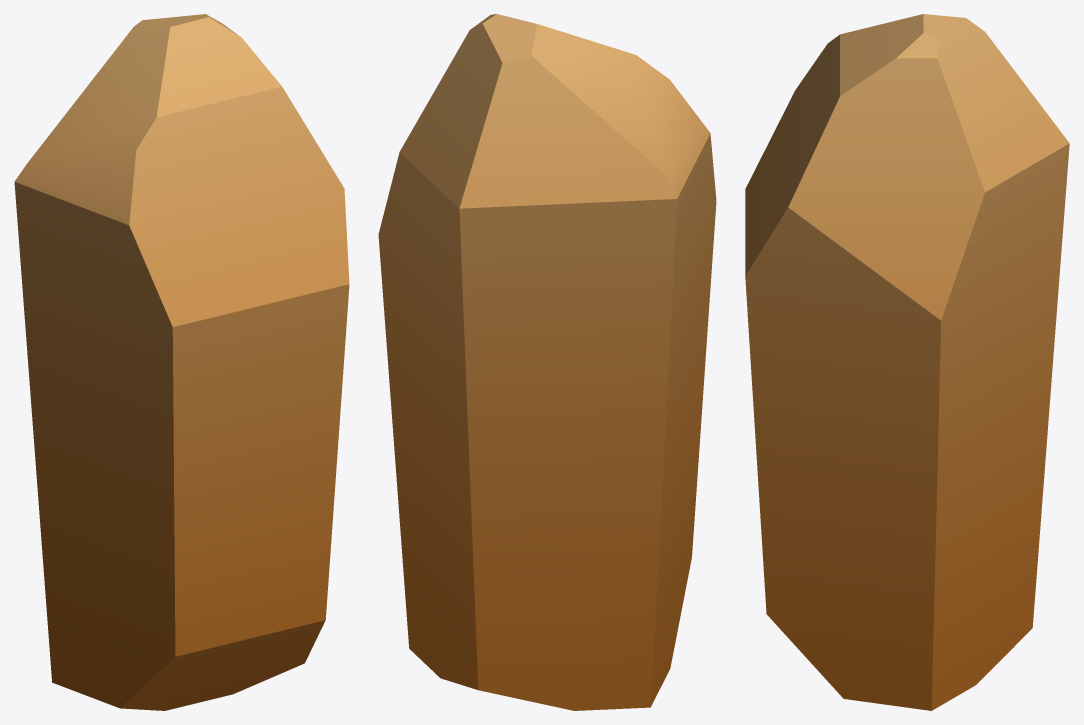
The model's file is Crystal_03.fbx.
3 views of the same model, side by side, from view 1: azimuth 30°, elevation 25°; view 2: azimuth 150°, elevation 25°; view 3: azimuth 270°, elevation 25° (orthographic). The views are drawn at different scales.
Parts seen in each view (by area): view 1: Crystal_03_LOD0; view 2: Crystal_03_LOD0; view 3: Crystal_03_LOD0.
Boxes of the visible parts, box(x1,y1,x2,y2) form: Crystal_03_LOD0: box(14, 14, 349, 710); Crystal_03_LOD0: box(378, 14, 716, 710); Crystal_03_LOD0: box(745, 14, 1069, 710).
Size of what is drawn, in the model's own units: 0.4003 by 0.8662 by 0.3829.
